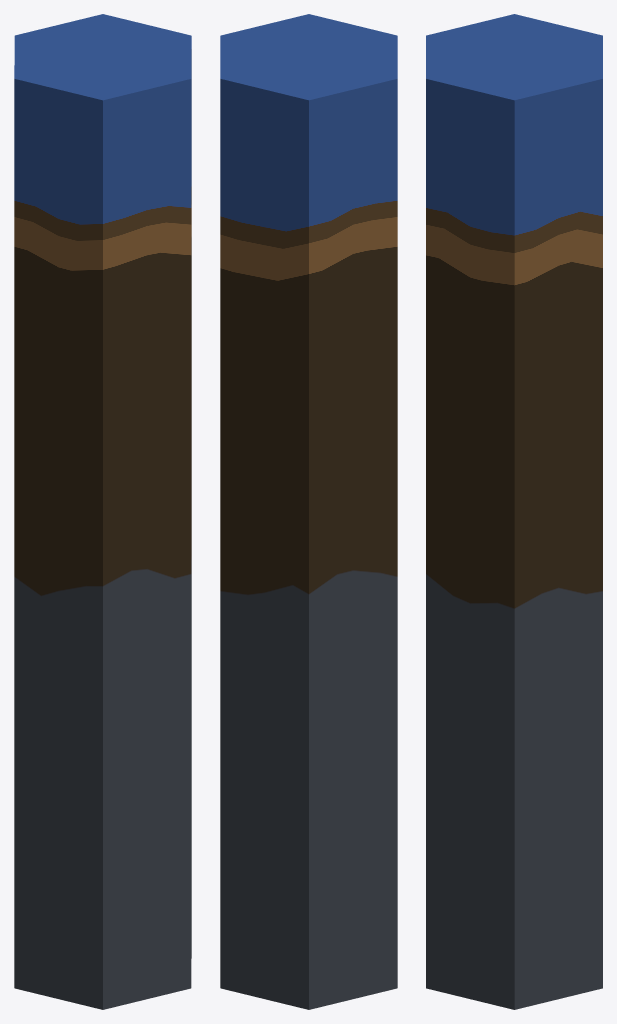
The model's file is SM_Tile_Hex_Column_Water_02.glb.
3 views of the same model, side by side, from view 1: azimuth 30°, elevation 25°; view 2: azimuth 150°, elevation 25°; view 3: azimuth 270°, elevation 25° (orthographic).
Parts seen in each view (by area): view 1: SM_Tile_Hex_Column_Water_02; view 2: SM_Tile_Hex_Column_Water_02; view 3: SM_Tile_Hex_Column_Water_02.
Boxes of the visible parts, x1,y1,x2,y2 form: SM_Tile_Hex_Column_Water_02: (14, 14, 191, 1009); SM_Tile_Hex_Column_Water_02: (220, 14, 397, 1009); SM_Tile_Hex_Column_Water_02: (426, 14, 602, 1009).
Bounding box in the file's own units: 5.77 × 28.35 × 5.
Materials: 1 (1 with a texture image).
